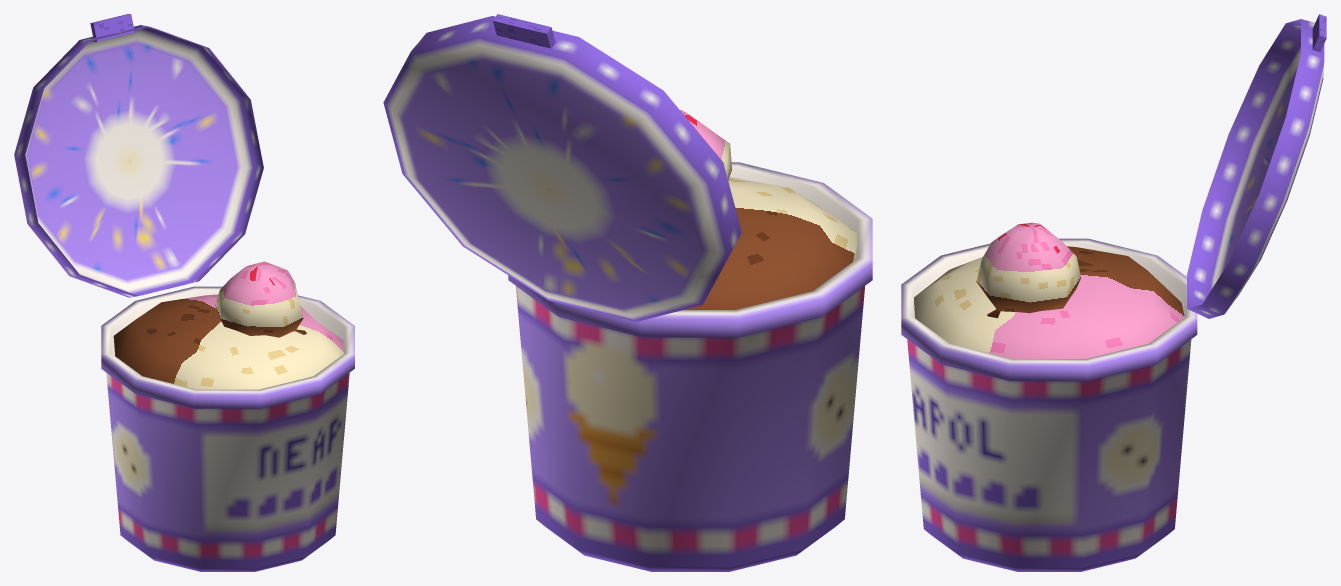
File: Flavor Tub Neapolitan.fbx
3 renders of one model, left to right at view 1: azimuth 30°, elevation 25°; view 2: azimuth 150°, elevation 25°; view 3: azimuth 270°, elevation 25°, orthographic. The views are drawn at different scales.
Parts seen in each view (by area): view 1: Flavor Tub Neapolitan lid, Flavor Tub Neapolitan tub, Flavor Tub Neapolitan ice cream, Flavor Tub Neapolitan swirl, Flavor Tub Neapolitan lid tab; view 2: Flavor Tub Neapolitan tub, Flavor Tub Neapolitan lid, Flavor Tub Neapolitan ice cream, Flavor Tub Neapolitan lid tab, Flavor Tub Neapolitan swirl; view 3: Flavor Tub Neapolitan tub, Flavor Tub Neapolitan lid, Flavor Tub Neapolitan ice cream, Flavor Tub Neapolitan swirl.
Part boxes in pixels (x1,y1,x2,y2): Flavor Tub Neapolitan lid: [14, 25, 263, 297]; Flavor Tub Neapolitan tub: [101, 286, 354, 571]; Flavor Tub Neapolitan ice cream: [113, 294, 343, 389]; Flavor Tub Neapolitan swirl: [215, 261, 306, 337]; Flavor Tub Neapolitan lid tab: [90, 14, 134, 41]; Flavor Tub Neapolitan tub: [508, 162, 872, 571]; Flavor Tub Neapolitan lid: [383, 16, 741, 321]; Flavor Tub Neapolitan ice cream: [684, 177, 856, 309]; Flavor Tub Neapolitan lid tab: [493, 14, 555, 48]; Flavor Tub Neapolitan swirl: [680, 110, 731, 180]; Flavor Tub Neapolitan tub: [901, 238, 1197, 571]; Flavor Tub Neapolitan lid: [1187, 19, 1324, 318]; Flavor Tub Neapolitan ice cream: [914, 246, 1184, 358]; Flavor Tub Neapolitan swirl: [976, 222, 1080, 318].
Bounding box in the file's own units: 0.3033 × 0.5406 × 0.4191.
5 materials, 5 textured.
